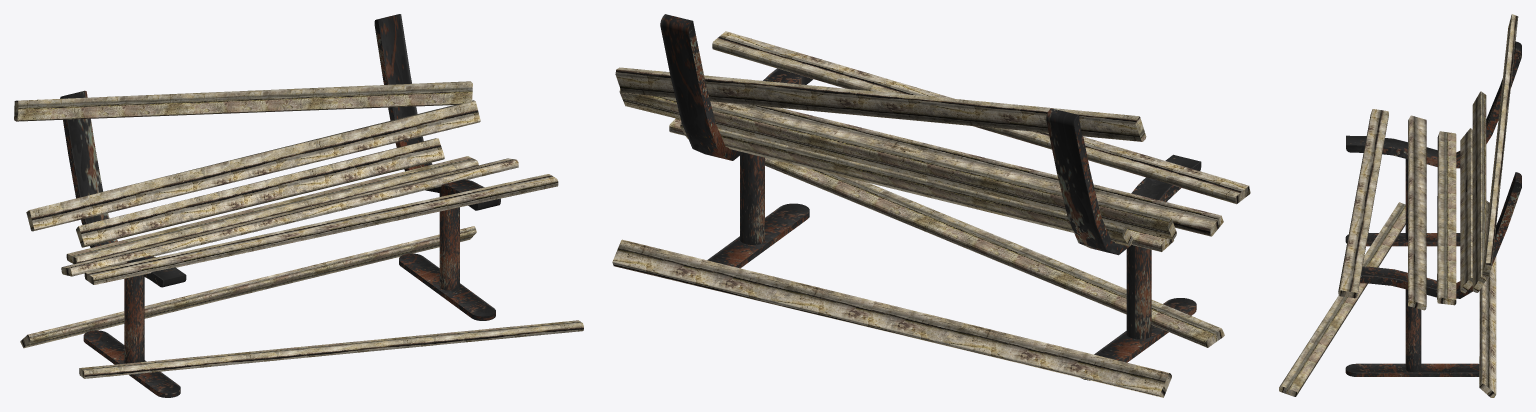
Rendered from Bench2_HP.fbx.
3 views of the same model, side by side, from view 1: azimuth 30°, elevation 25°; view 2: azimuth 150°, elevation 25°; view 3: azimuth 270°, elevation 25° (orthographic). The views are drawn at different scales.
Visible parts, largest first — view 1: Bench2; view 2: Bench2; view 3: Bench2.
Part boxes in pixels (x1,y1,x2,y2): Bench2: (14,14,583,397); Bench2: (612,14,1250,397); Bench2: (1279,14,1521,397).
Size of the model in its own units: 85.49 by 43.74 by 47.33.
Materials: 1 (1 with a texture image).
